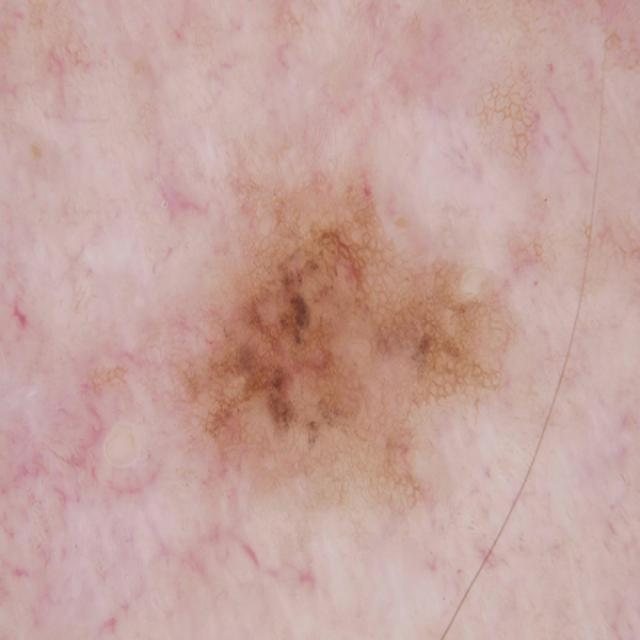Skin-Cancer Pigmented benign keratosis: (10, 13, 640, 640)
